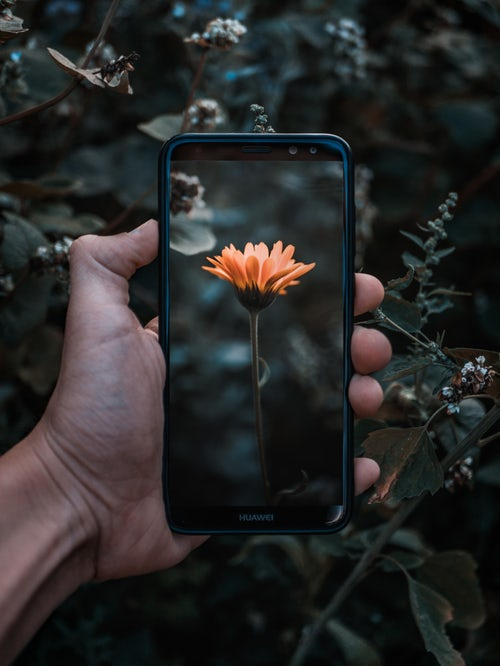phone: (155, 128, 356, 541)
